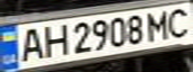0: (106, 15, 130, 48)
2: (69, 19, 93, 55)
8: (124, 11, 148, 45)
9: (90, 17, 112, 52)
A: (12, 25, 48, 62)
C: (160, 5, 193, 39)
H: (39, 21, 69, 57)
M: (142, 8, 175, 42)
